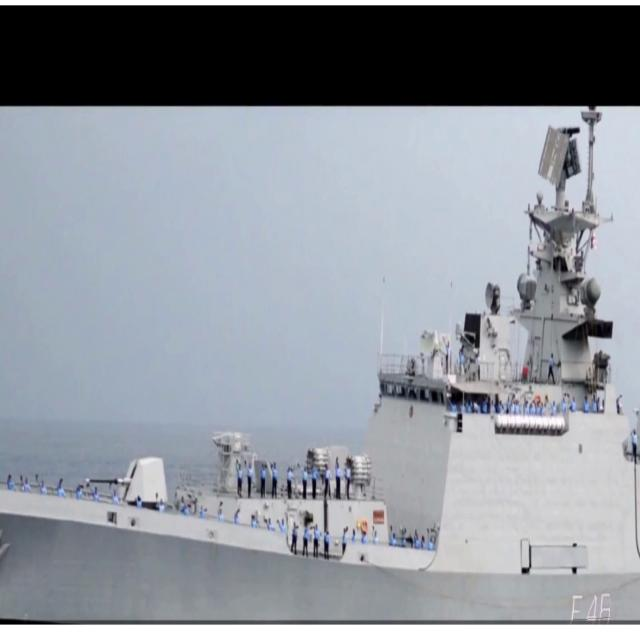OCR: (564, 585, 610, 621)
